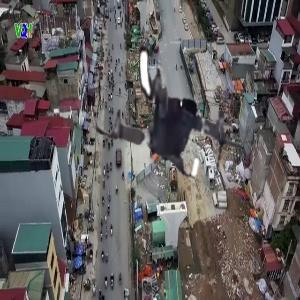drone: (87, 21, 261, 195)
